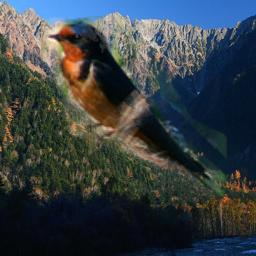Swallow: (41, 16, 227, 197)
